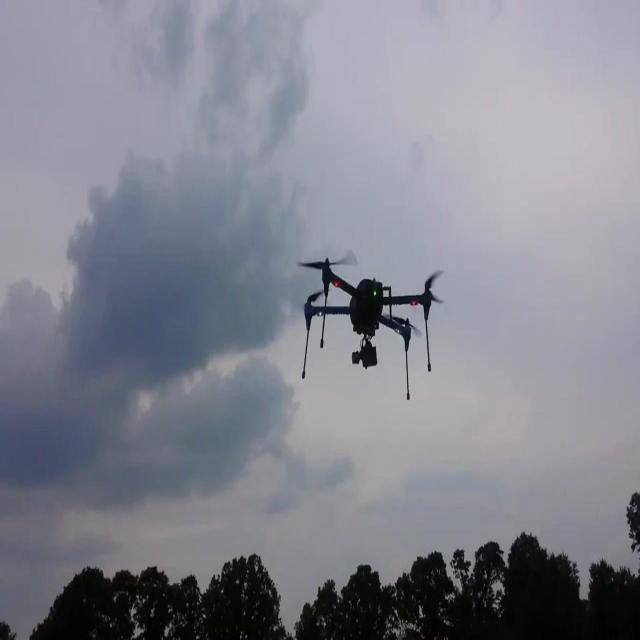UAV: (296, 249, 444, 401)
